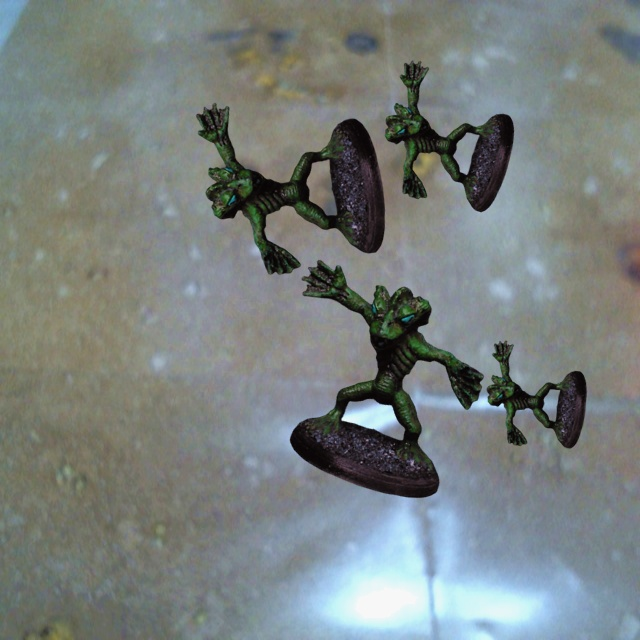pieza_juego: (290, 260, 483, 497), (196, 103, 384, 274), (385, 60, 513, 211), (487, 340, 586, 448)
